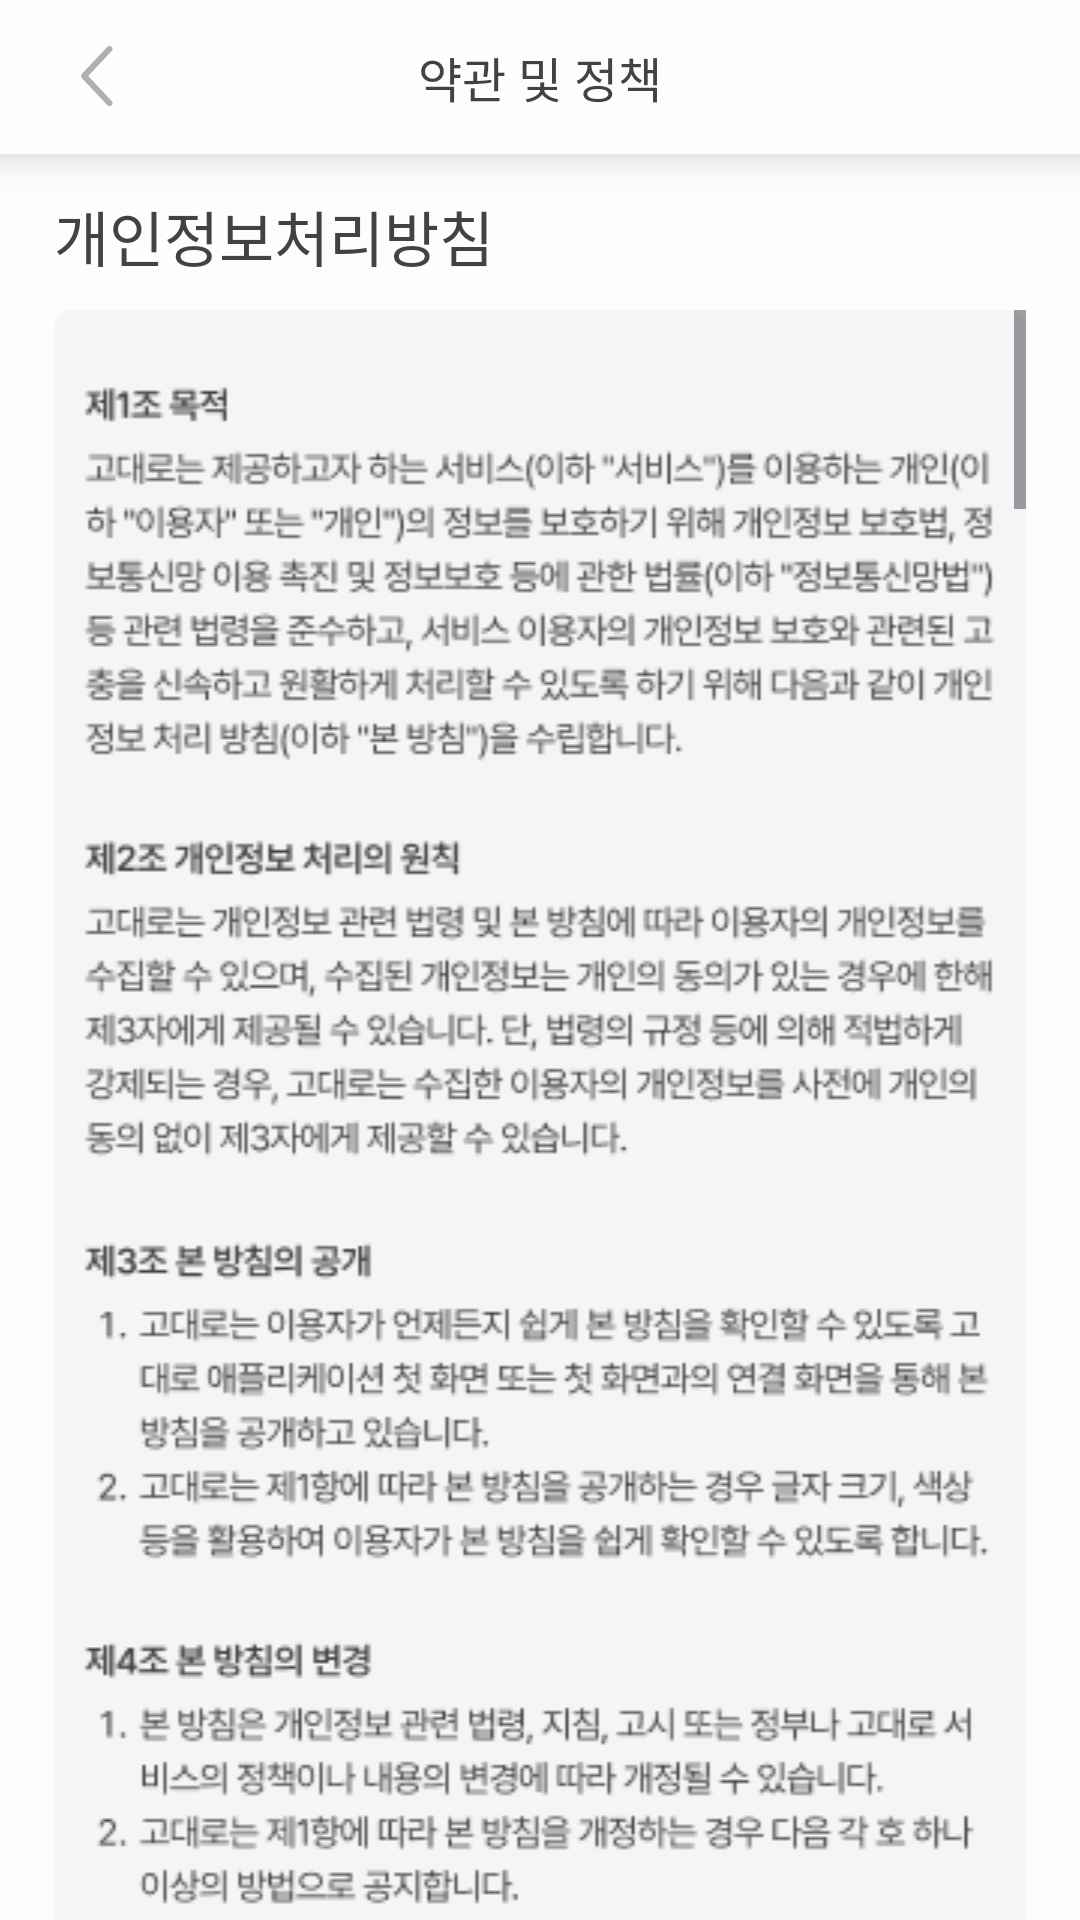

Icons on this 1080w x 1920h Android screen, each with its box as (x1, y1, x2, y2):
back arrow: (81, 46, 113, 106)
